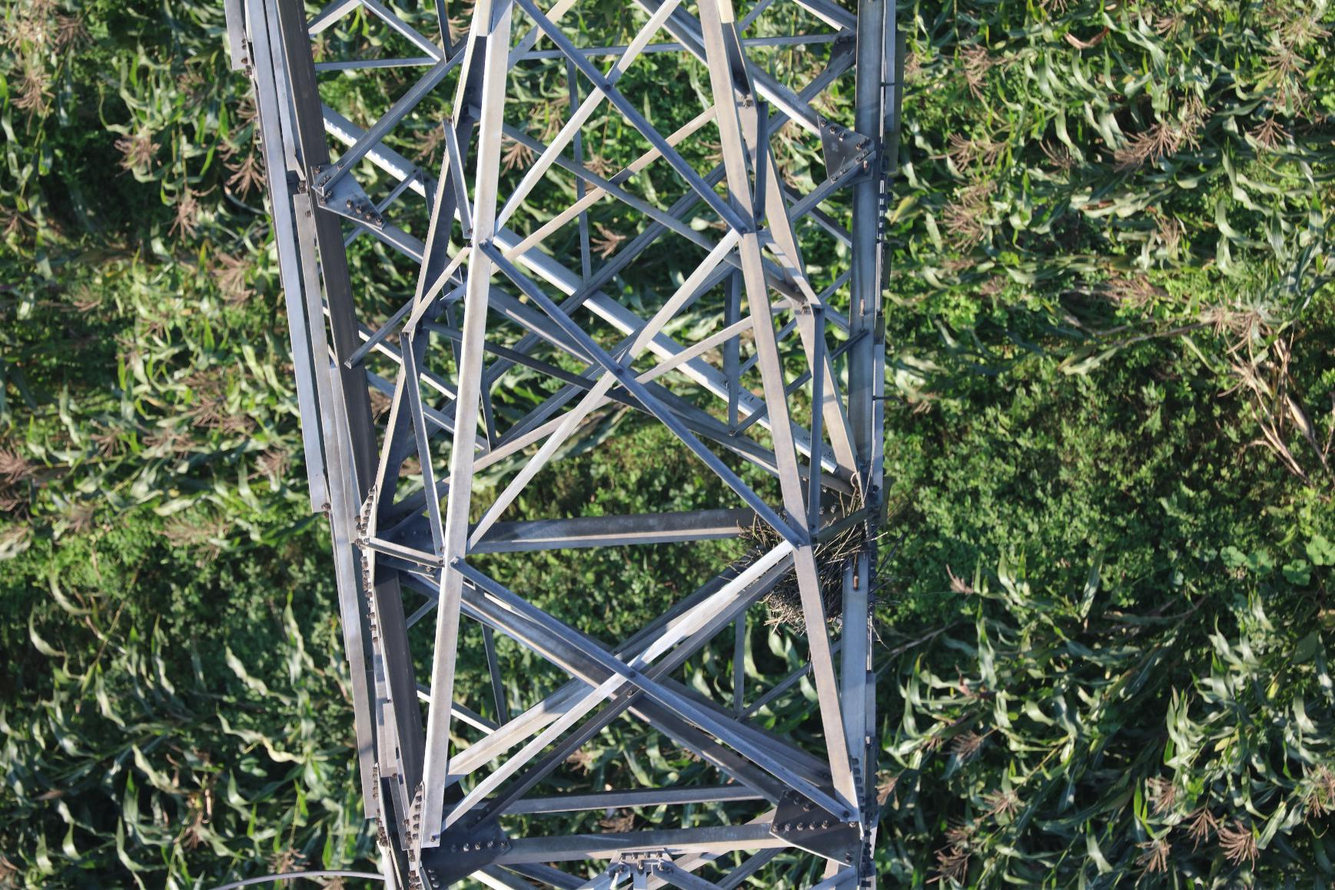nest: (730, 486, 866, 636)
